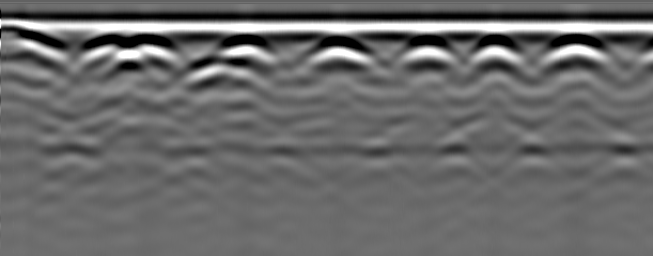pipe: (1, 21, 71, 52)
steel: (216, 34, 283, 71), (467, 36, 528, 69), (311, 36, 368, 70), (550, 34, 610, 65), (129, 34, 182, 63), (81, 35, 135, 62), (403, 38, 453, 67)
